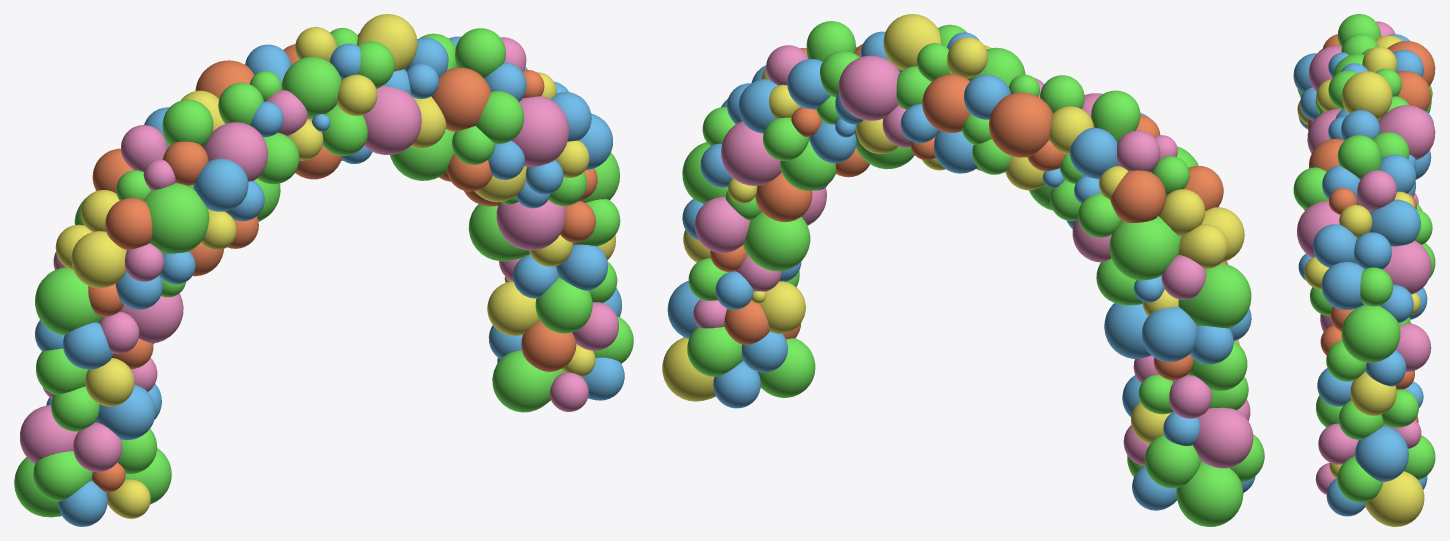
The model's file is Balloon-Arch.fbx.
3 views of the same model, side by side, from view 1: azimuth 30°, elevation 25°; view 2: azimuth 150°, elevation 25°; view 3: azimuth 270°, elevation 25° (orthographic). The views are drawn at different scales.
Visible parts, largest first — view 1: SM_Greenballoon, SM_Blueballoon, SM_Purpleballoon, SM_Yellowballoon, SM_Orangeballoon; view 2: SM_Greenballoon, SM_Blueballoon, SM_Purpleballoon, SM_Yellowballoon, SM_Orangeballoon; view 3: SM_Blueballoon, SM_Greenballoon, SM_Purpleballoon, SM_Yellowballoon, SM_Orangeballoon.
Boxes of the visible parts, left/top/right/bottom form: SM_Greenballoon: left=14, top=28, right=633, bottom=517; SM_Blueballoon: left=35, top=36, right=624, bottom=526; SM_Purpleballoon: left=20, top=33, right=618, bottom=471; SM_Yellowballoon: left=55, top=14, right=615, bottom=518; SM_Orangeballoon: left=88, top=44, right=597, bottom=492; SM_Greenballoon: left=682, top=21, right=1264, bottom=526; SM_Blueballoon: left=667, top=31, right=1255, bottom=510; SM_Purpleballoon: left=693, top=45, right=1253, bottom=468; SM_Yellowballoon: left=662, top=14, right=1244, bottom=443; SM_Orangeballoon: left=710, top=44, right=1228, bottom=460; SM_Blueballoon: left=1293, top=34, right=1433, bottom=516; SM_Greenballoon: left=1293, top=14, right=1435, bottom=502; SM_Purpleballoon: left=1297, top=21, right=1435, bottom=494; SM_Yellowballoon: left=1297, top=35, right=1424, bottom=526; SM_Orangeballoon: left=1307, top=34, right=1435, bottom=425.
Bounding box in the file's own units: 658 × 456 × 161.
